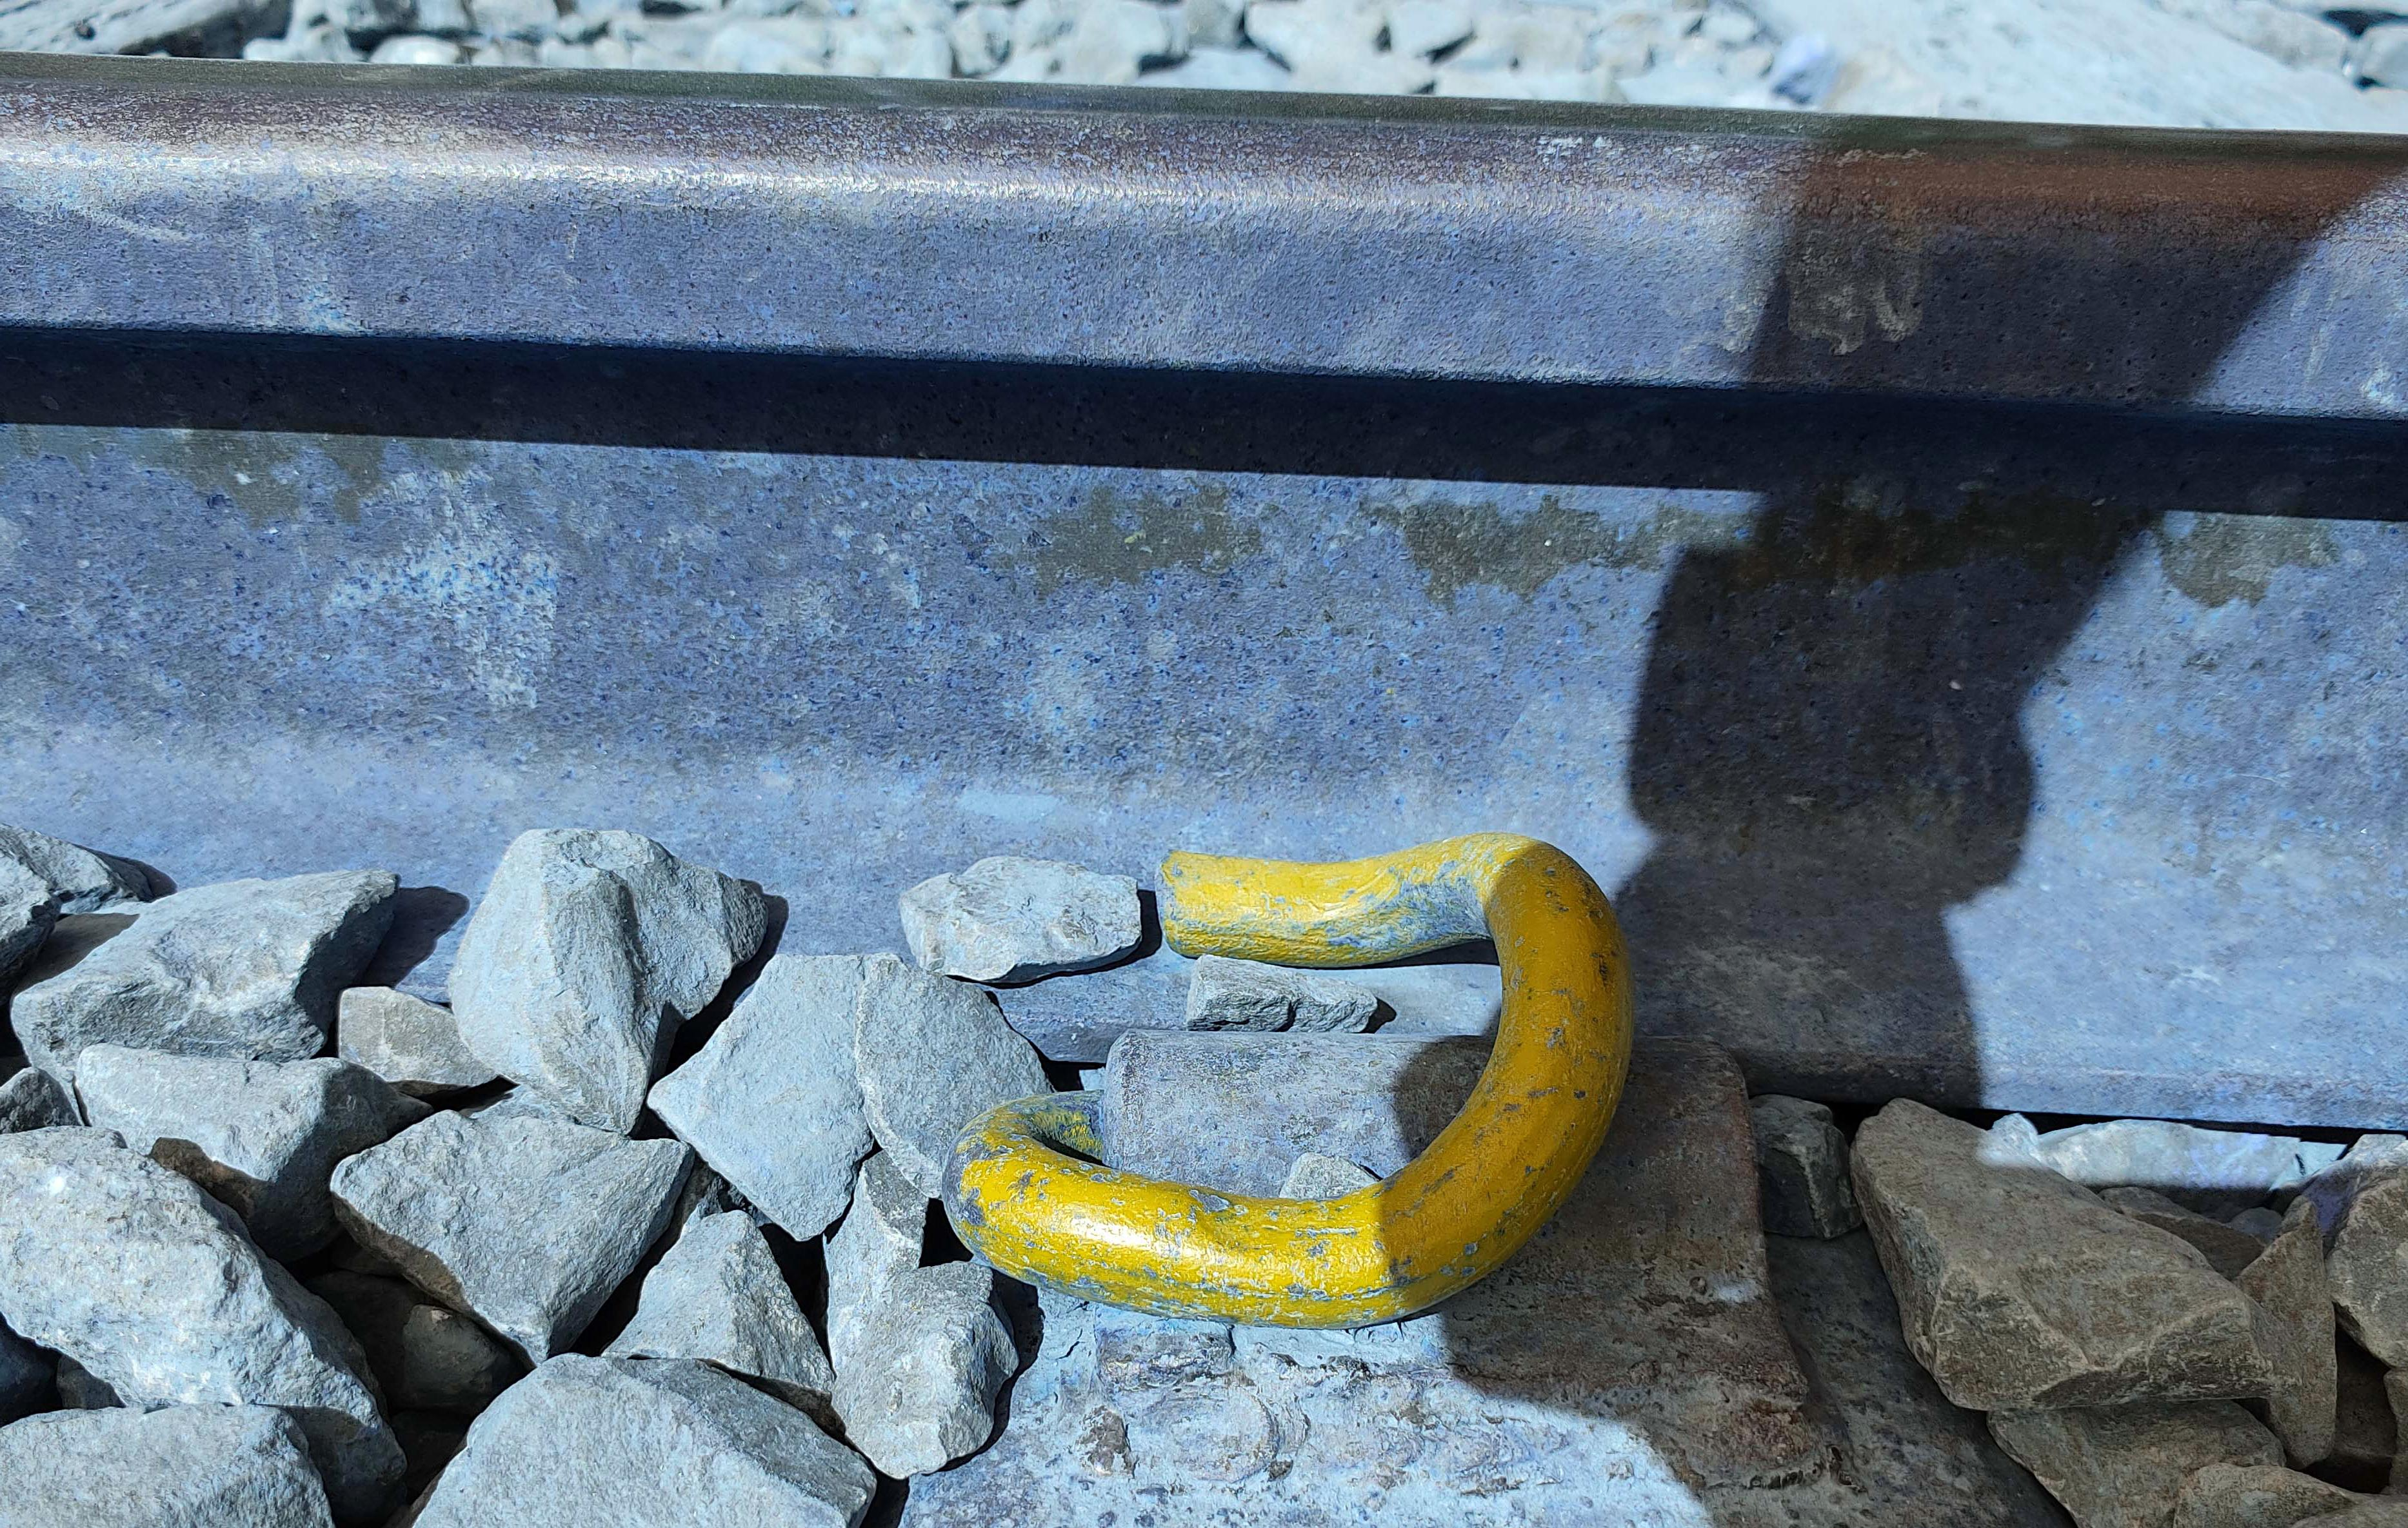error1: (947, 740, 1675, 1376)
